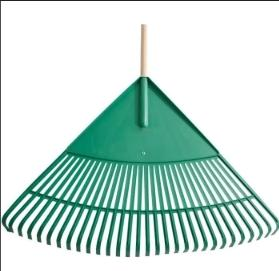RATEAU: (0, 2, 279, 271)
